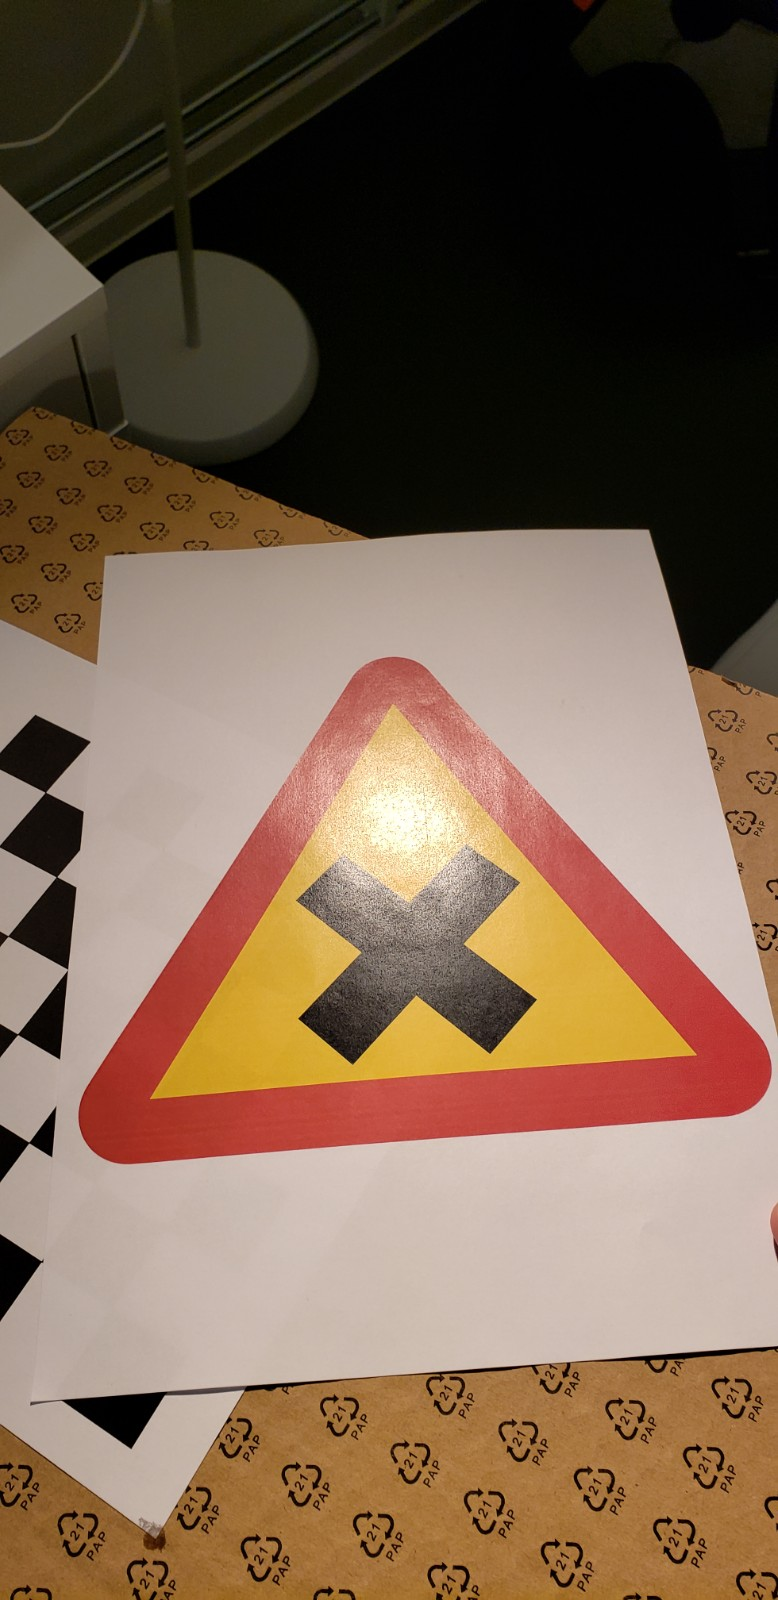junction: (119, 604, 778, 1213)
